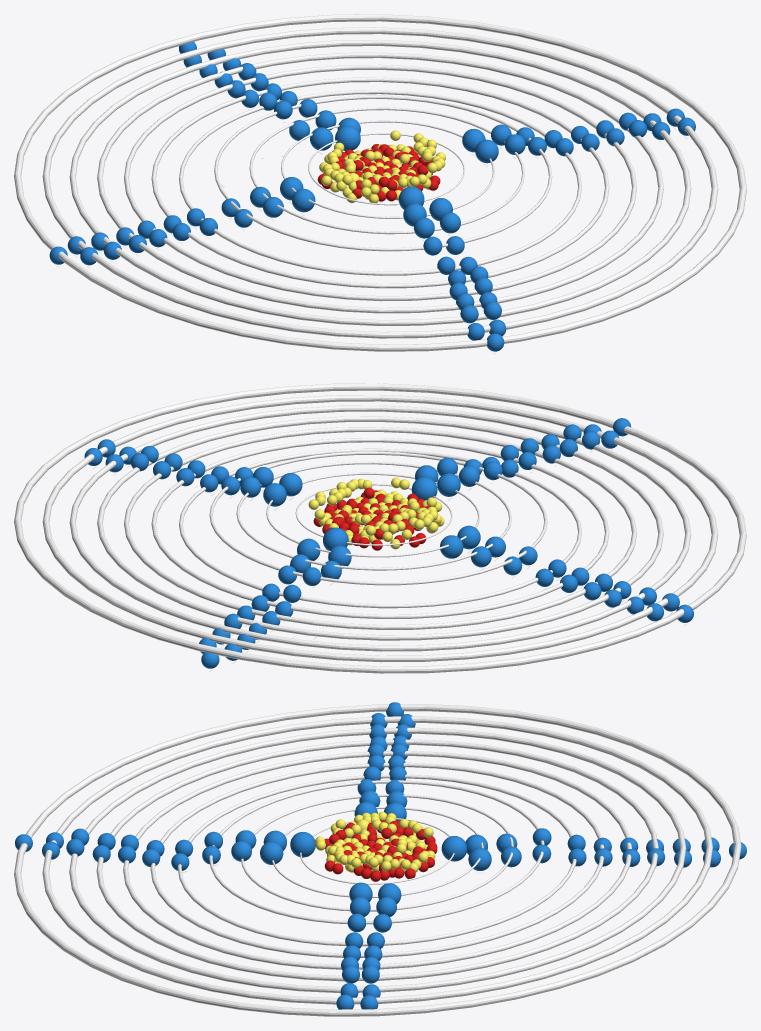
3 views of the same model, one above another, from view 1: azimuth 30°, elevation 25°; view 2: azimuth 150°, elevation 25°; view 3: azimuth 270°, elevation 25° (orthographic).
Visible parts, largest first — view 1: Torus.011, Torus.010, Torus.009, Torus.008, Torus.007, Torus.006, Torus.005, Torus.004, Torus.003, Torus.002, Torus.001; view 2: Torus.011, Torus.010, Torus.009, Torus.008, Torus.007, Torus.006, Torus.005, Torus.004, Torus.003, Torus.002, Torus.001; view 3: Torus.011, Torus.010, Torus.009, Torus.008, Torus.007, Torus.006, Torus.005, Torus.004, Torus.003, Torus.002, g, g.001 (+1 smaller).
Boxes of the visible parts, box(x1,y1,x2,y2) form: Torus.011: box(14, 14, 746, 351); Torus.010: box(42, 27, 718, 338); Torus.009: box(69, 39, 691, 325); Torus.008: box(97, 52, 663, 313); Torus.007: box(124, 64, 636, 301); Torus.006: box(151, 77, 609, 288); Torus.005: box(179, 90, 581, 275); Torus.004: box(214, 95, 552, 251); Torus.003: box(249, 107, 524, 234); Torus.002: box(281, 120, 494, 218); Torus.001: box(308, 133, 465, 205); Torus.011: box(14, 383, 746, 673); Torus.010: box(42, 394, 718, 662); Torus.009: box(69, 405, 691, 651); Torus.008: box(97, 416, 663, 640); Torus.007: box(124, 427, 636, 629); Torus.006: box(151, 438, 609, 618); Torus.005: box(179, 448, 581, 608); Torus.004: box(209, 451, 547, 585); Torus.003: box(236, 461, 511, 570); Torus.002: box(266, 472, 479, 557); Torus.001: box(295, 483, 452, 545); Torus.011: box(14, 704, 741, 1016); Torus.010: box(42, 716, 712, 1004); Torus.009: box(69, 727, 686, 992); Torus.008: box(96, 739, 658, 981); Torus.007: box(123, 751, 631, 969); Torus.006: box(150, 762, 604, 957); Torus.005: box(177, 774, 576, 946); Torus.004: box(209, 780, 544, 924); Torus.003: box(241, 794, 513, 911); Torus.002: box(272, 807, 483, 897); g: box(441, 836, 467, 861); g.001: box(290, 832, 315, 857).
Bounding box in the file's own units: 28.21 × 2.85 × 28.24.
